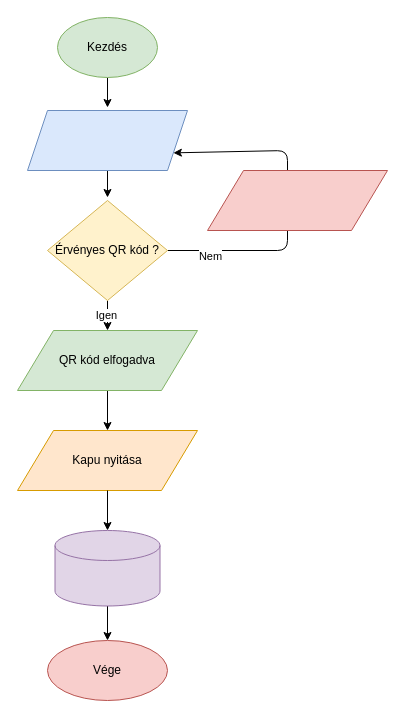
The diagram is 405 pixels wide and 718 high, and some of its shapes have lost their labels. Each missing label, with the centre of its shape:
Adatok mentése az adatbázisba (Belépésiidő,azonosító): (107,568)
Hiba: Hibás QR kód: (297,200)
QR kód beolvasása: (107,140)
